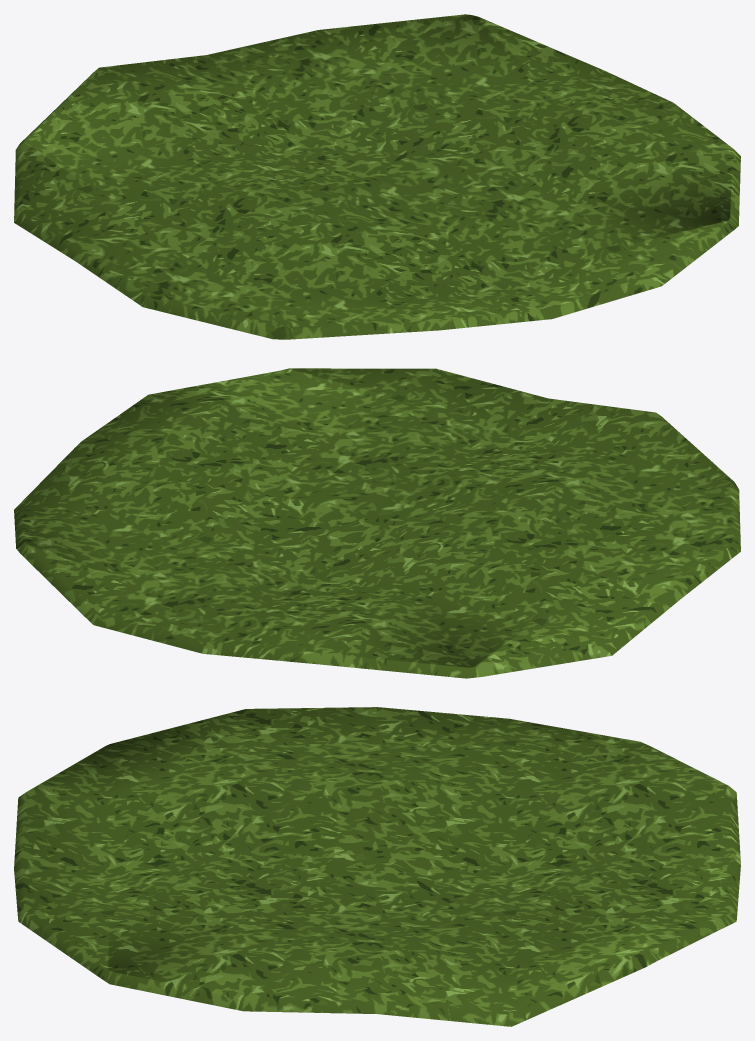
File: puddle 2x2.FBX
The picture shows the model from 3 angles, top to bottom: view 1: azimuth 30°, elevation 25°; view 2: azimuth 150°, elevation 25°; view 3: azimuth 270°, elevation 25°; orthographic projection. The views are drawn at different scales.
Visible parts, largest first — view 1: Puddle 2x2; view 2: Puddle 2x2; view 3: Puddle 2x2.
Boxes of the visible parts, left/top/right/bottom form: Puddle 2x2: left=14, top=14, right=740, bottom=339; Puddle 2x2: left=14, top=368, right=740, bottom=678; Puddle 2x2: left=14, top=707, right=740, bottom=1026.
Bounding box in the file's own units: 181 × 9.5 × 181.
